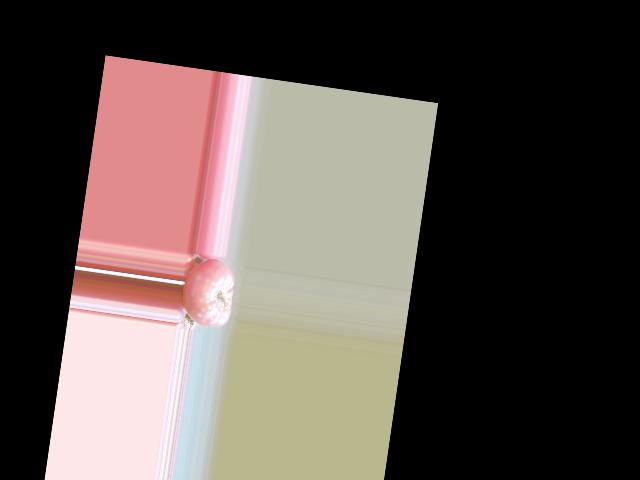tomato: (178, 254, 238, 329)
